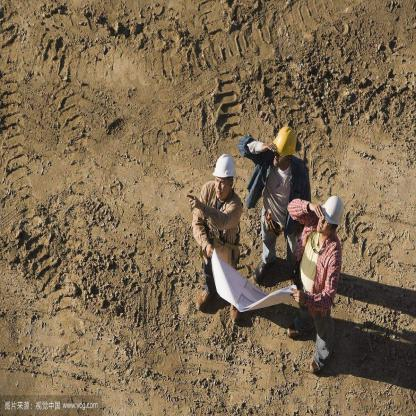helmet: (274, 126, 298, 158), (322, 195, 343, 225), (212, 152, 236, 178)
person: (292, 193, 349, 376), (192, 154, 243, 322), (254, 125, 307, 281)
